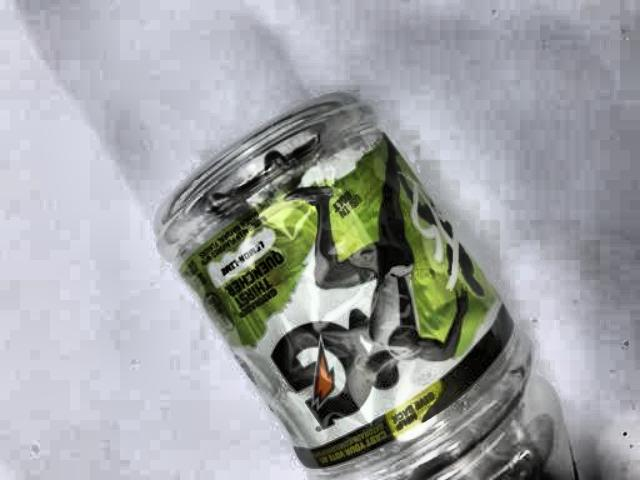Bottles: (114, 72, 584, 475)
